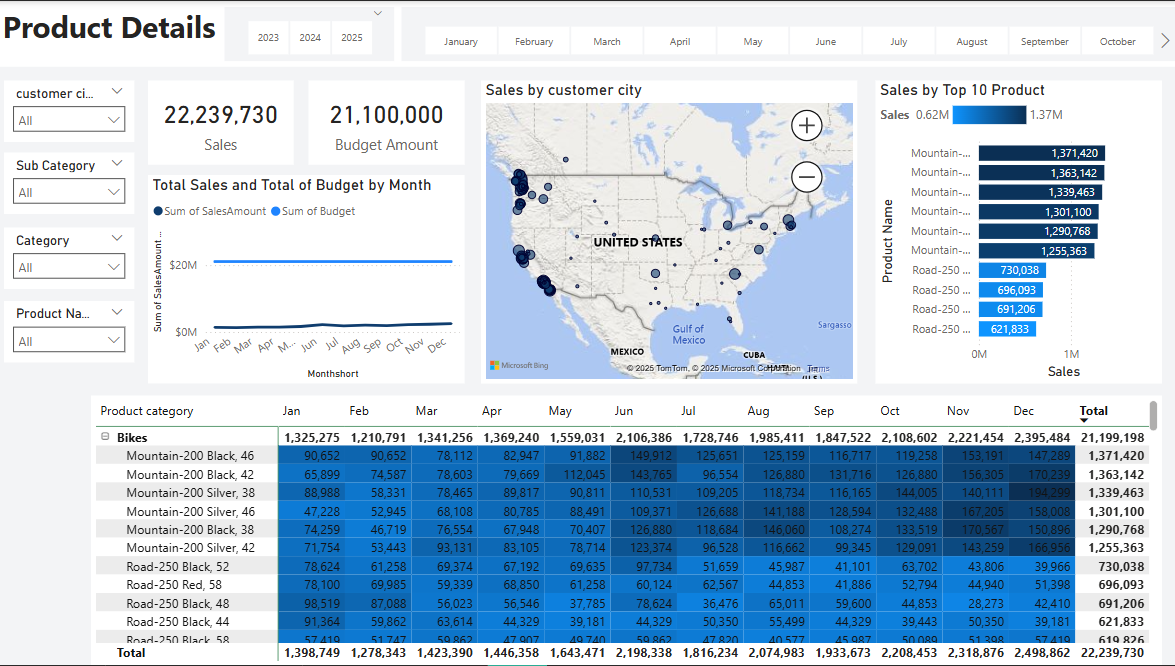

Layout of this report page (visuals, bound fields, positions):
{"tool":"powerbi","page":{"name":"Product Details","canvas":[1280,720],"ordinal":2},"visuals":[{"type":"textbox","box":[0,0,1280,71.6],"z":0},{"type":"slicer","fields":{"Values":["Dim_Customer.customer city"]},"box":[6.5,86.2,141.5,66.7],"z":1000},{"type":"slicer","fields":{"Values":["DIM_Product.Sub Category"]},"box":[6.5,164.3,141.5,66.7],"z":2000},{"type":"slicer","fields":{"Values":["DIM_Product.Product category"]},"box":[6.5,245.6,141.5,66.7],"z":3000},{"type":"slicer","fields":{"Values":["DIM_Product.Product Name"]},"box":[6.5,325.3,141.5,66.7],"z":4000},{"type":"slicer","fields":{"Values":["Dim_calender.Year"]},"box":[245.6,6.5,183.8,58.6],"z":5000},{"type":"slicer","fields":{"Values":["Dim_calender.month"]},"box":[437.5,6.5,839.3,58.6],"z":6000},{"type":"barChart","title":"Sales by Top 10 Product ","fields":{"Y":["Key Measures.Sales"],"Category":["DIM_Product.Product Name"]},"box":[951.5,86.2,310.7,328.6],"z":7000},{"type":"pivotTable","fields":{"Values":["Key Measures.Sales"],"Columns":["Dim_calender.Monthshort"],"Rows":["DIM_Product.Product category","DIM_Product.Product Name"]},"box":[100.8,427.8,1161.4,292.8],"z":8000},{"type":"card","fields":{"Values":["Key Measures.Sales"]},"box":[162.7,86.2,157.8,91.1],"z":9000},{"type":"card","fields":{"Values":["Key Measures.Budget Amount"]},"box":[336.7,86.2,169.2,91.1],"z":10000},{"type":"lineChart","title":"Total Sales and Total of Budget by Month","fields":{"Y":["Sum(Fact_internetsales.SalesAmount)","Sum(Fact_Budget.Budget)"],"Category":["Dim_calender.Monthshort"]},"box":[162.7,188.7,343.2,226.1],"z":11000},{"type":"map","fields":{"Category":["Dim_Customer.customer city"],"Size":["Key Measures.Sales"]},"box":[523.7,86.2,408.3,328.6],"z":12000}]}

Visuals, with their boxes in screenshot pixels (x1, y1, x2, y2), scaled from the page's 1280x720 canvas onto the 1175x666 screenshot:
textbox: BBox(0, 0, 1174, 66)
slicer - Dim_Customer.customer city: BBox(6, 80, 136, 141)
slicer - DIM_Product.Sub Category: BBox(6, 152, 136, 214)
slicer - DIM_Product.Product category: BBox(6, 227, 136, 289)
slicer - DIM_Product.Product Name: BBox(6, 301, 136, 363)
slicer - Dim_calender.Year: BBox(225, 6, 394, 60)
slicer - Dim_calender.month: BBox(402, 6, 1172, 60)
"Sales by Top 10 Product " barChart: BBox(873, 80, 1159, 384)
pivotTable - Key Measures.Sales x Dim_calender.Monthshort: BBox(93, 396, 1159, 665)
card - Key Measures.Sales: BBox(149, 80, 294, 164)
card - Key Measures.Budget Amount: BBox(309, 80, 464, 164)
"Total Sales and Total of Budget by Month" lineChart: BBox(149, 175, 464, 384)
map - Dim_Customer.customer city x Key Measures.Sales: BBox(481, 80, 856, 384)
